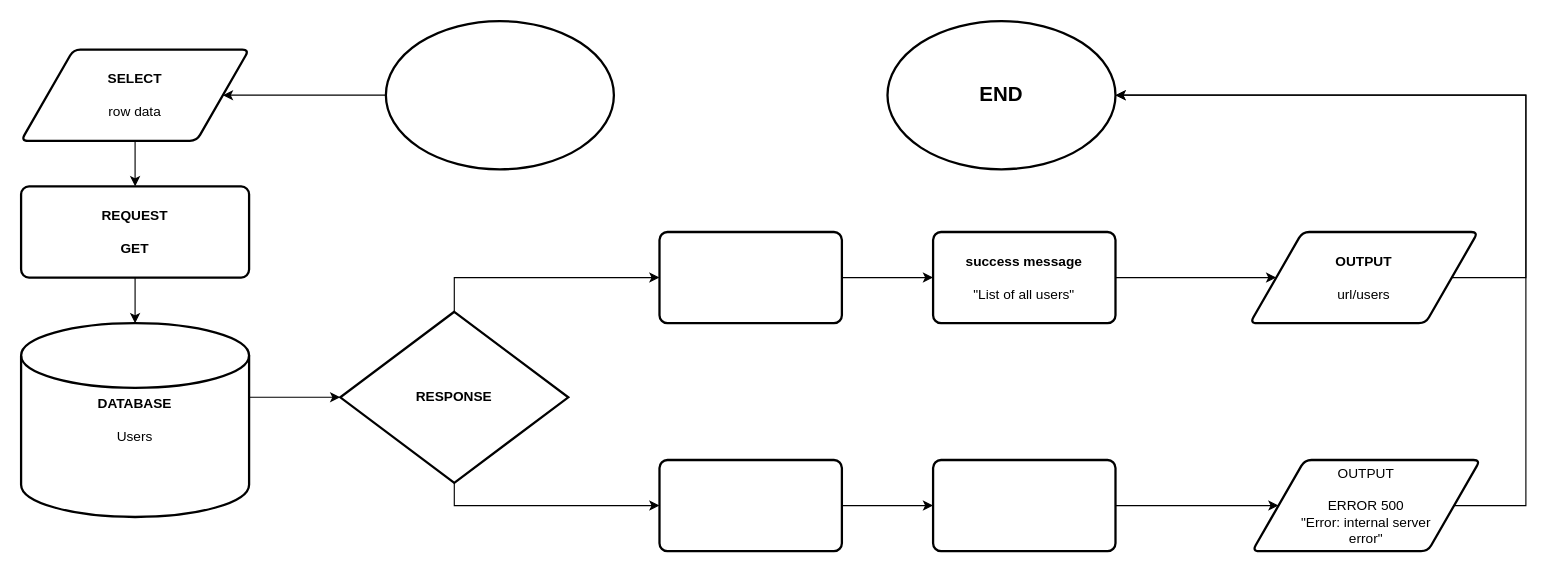
This 1555x571 diagram has some shape labels left out. Each missing label, with the box of its shape:
Condition internal server error: (931, 458, 1116, 552)
ERROR: (658, 458, 842, 552)
START: (384, 19, 614, 170)
SUCCESS: (658, 230, 842, 324)
